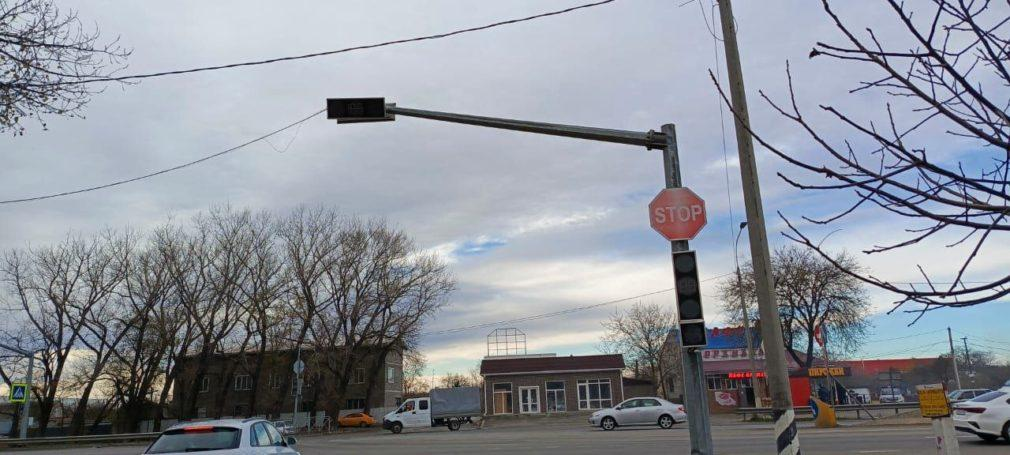off traffic light: (673, 251, 704, 322), (327, 96, 384, 119)
road_sign: (650, 189, 707, 240), (9, 383, 28, 402)
